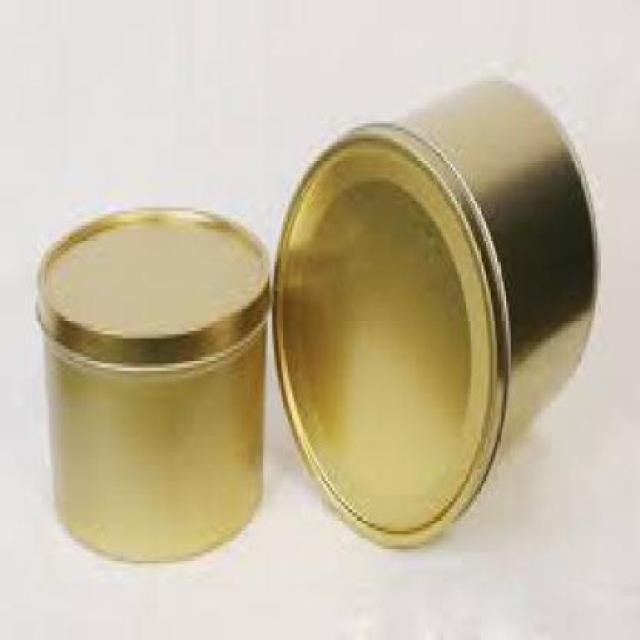METAL: (273, 68, 602, 546), (38, 200, 272, 563)
